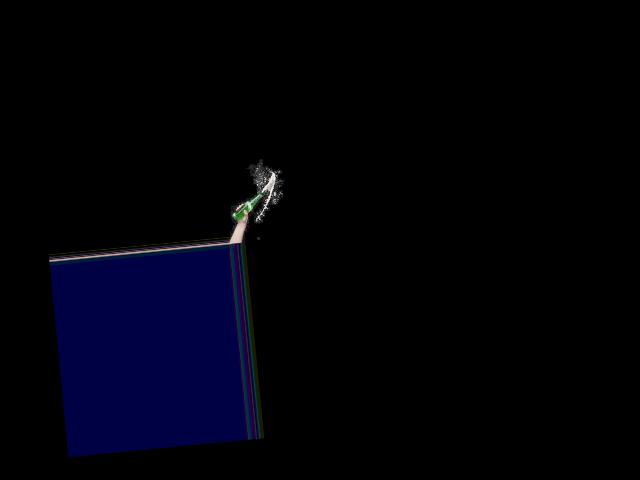beer: (229, 193, 263, 221)
